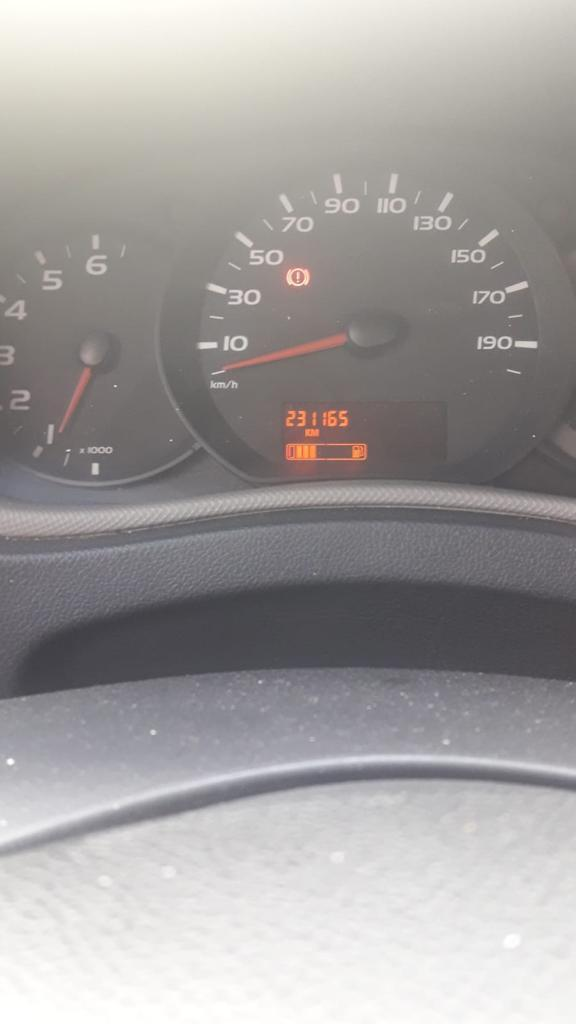1: (309, 410, 317, 427), (320, 409, 327, 427)
2: (283, 409, 296, 427)
3: (296, 408, 306, 428)
5: (337, 408, 348, 428)
6: (327, 409, 337, 427)
X: (309, 428, 320, 437), (303, 428, 309, 437)
odometer: (276, 395, 452, 474)
